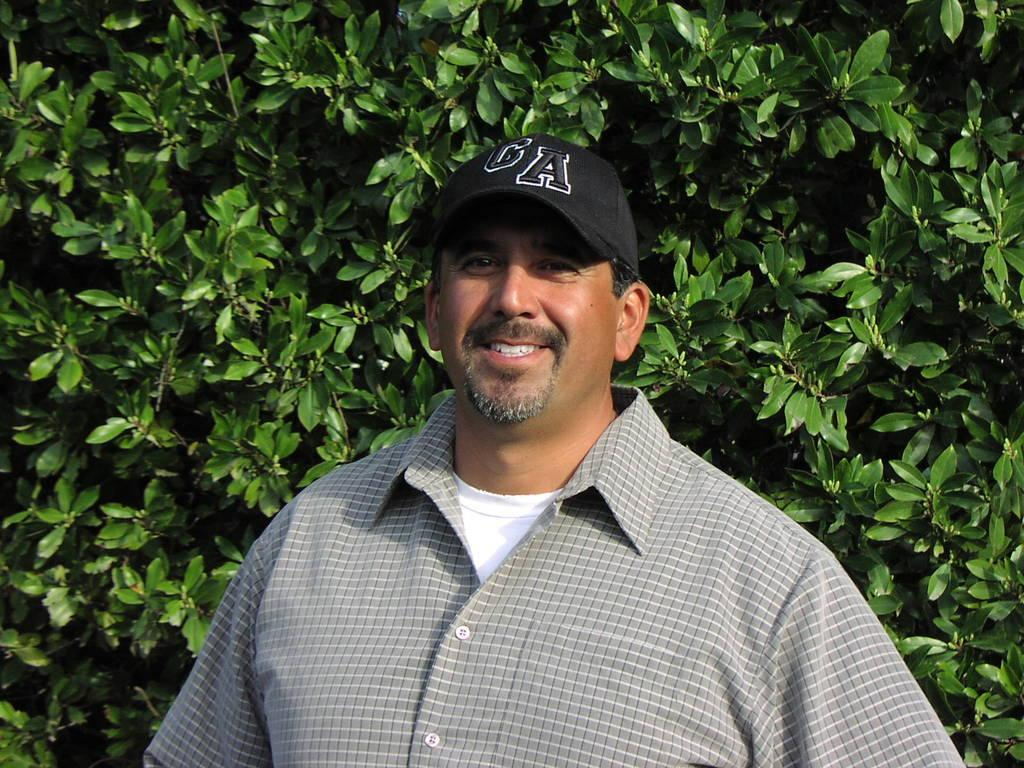Hat: (430, 130, 641, 278)
